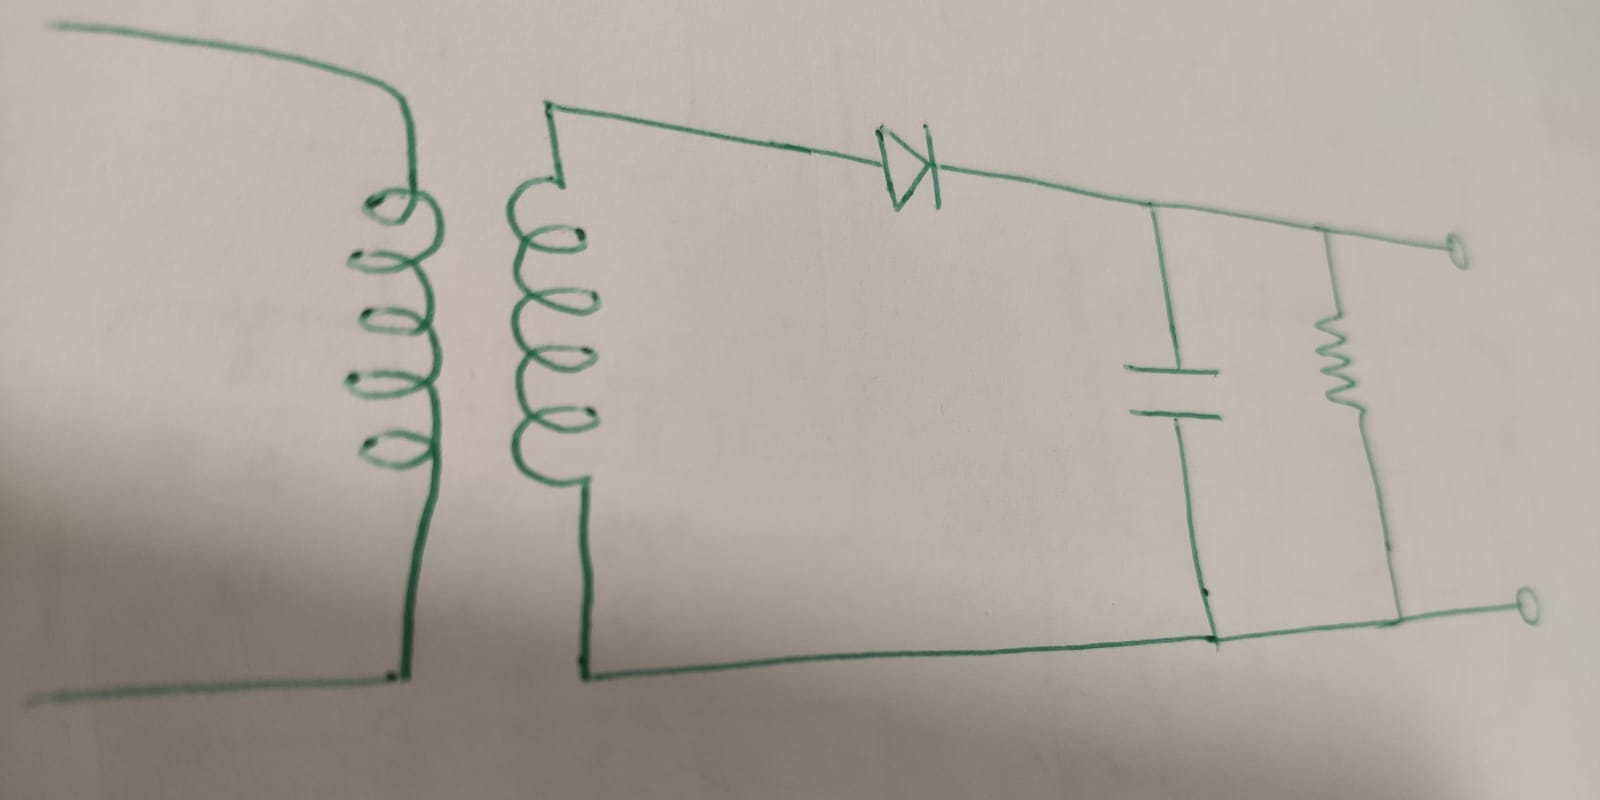capacitor.unpolarized: (1128, 359, 1227, 428)
diode: (873, 117, 946, 214)
junction: (373, 72, 427, 124), (381, 647, 426, 697), (564, 653, 608, 699), (529, 90, 571, 126), (1136, 192, 1168, 219), (1198, 623, 1233, 648), (1386, 609, 1418, 631), (1315, 217, 1337, 243)
resistor: (1310, 308, 1367, 418)
terminal: (10, 673, 76, 724), (35, 6, 96, 48), (1433, 227, 1476, 269), (1507, 586, 1549, 628)
transformer: (340, 169, 603, 492)
